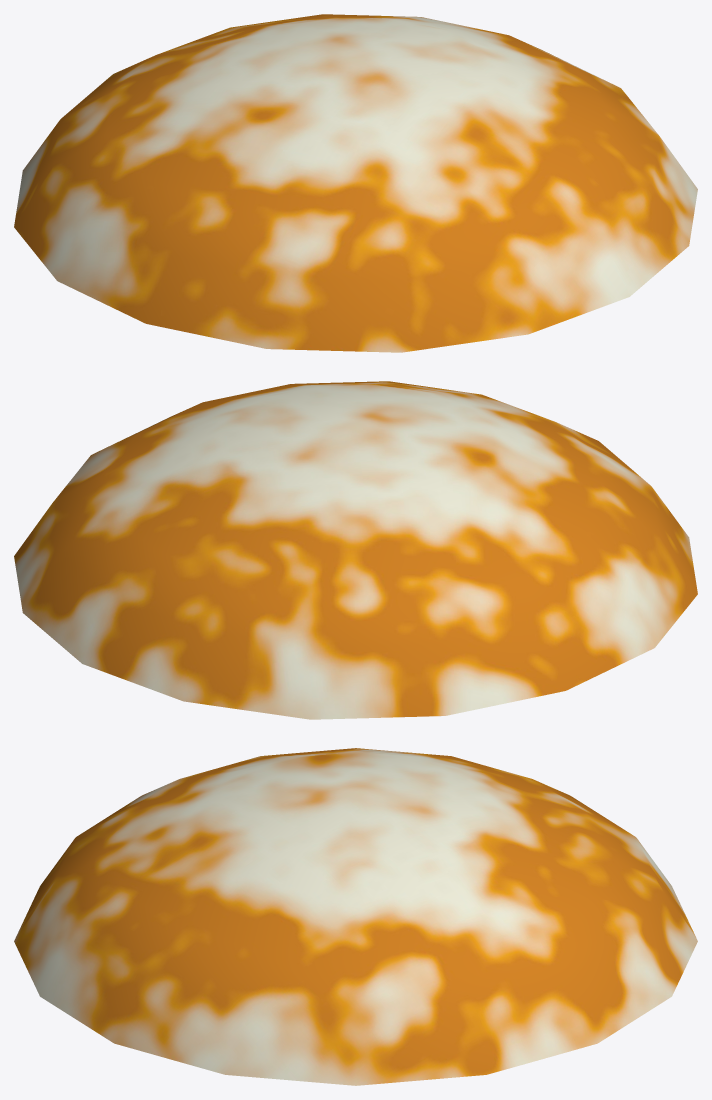
Rendered from gyudon_kome.glb.
3 renders of one model, top to bottom at view 1: azimuth 30°, elevation 25°; view 2: azimuth 150°, elevation 25°; view 3: azimuth 270°, elevation 25°, orthographic.
Visible parts, largest first — view 1: kome; view 2: kome; view 3: kome.
Part boxes in pixels (x1=…): kome: x1=14, y1=14, x2=697, y2=352; kome: x1=14, y1=381, x2=697, y2=719; kome: x1=14, y1=748, x2=697, y2=1085.
Size of the model in its own units: 1.8 by 0.4299 by 1.8.
1 material, 1 textured.
